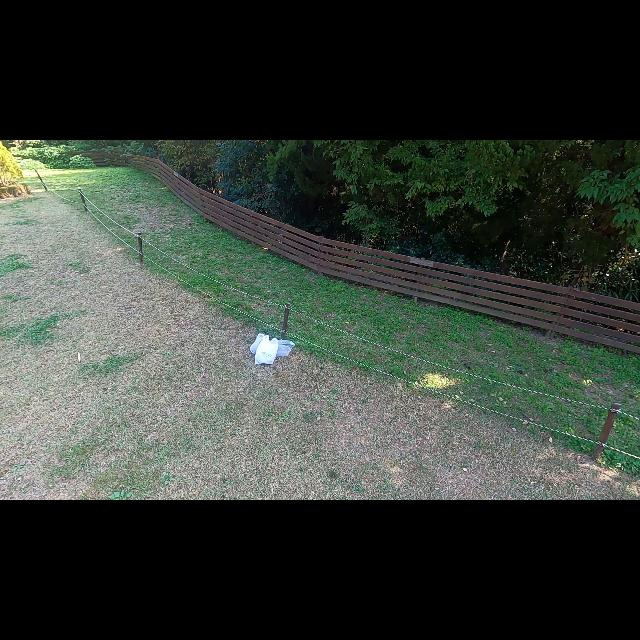trash: (264, 334, 296, 360), (254, 334, 278, 366), (247, 332, 271, 356)
